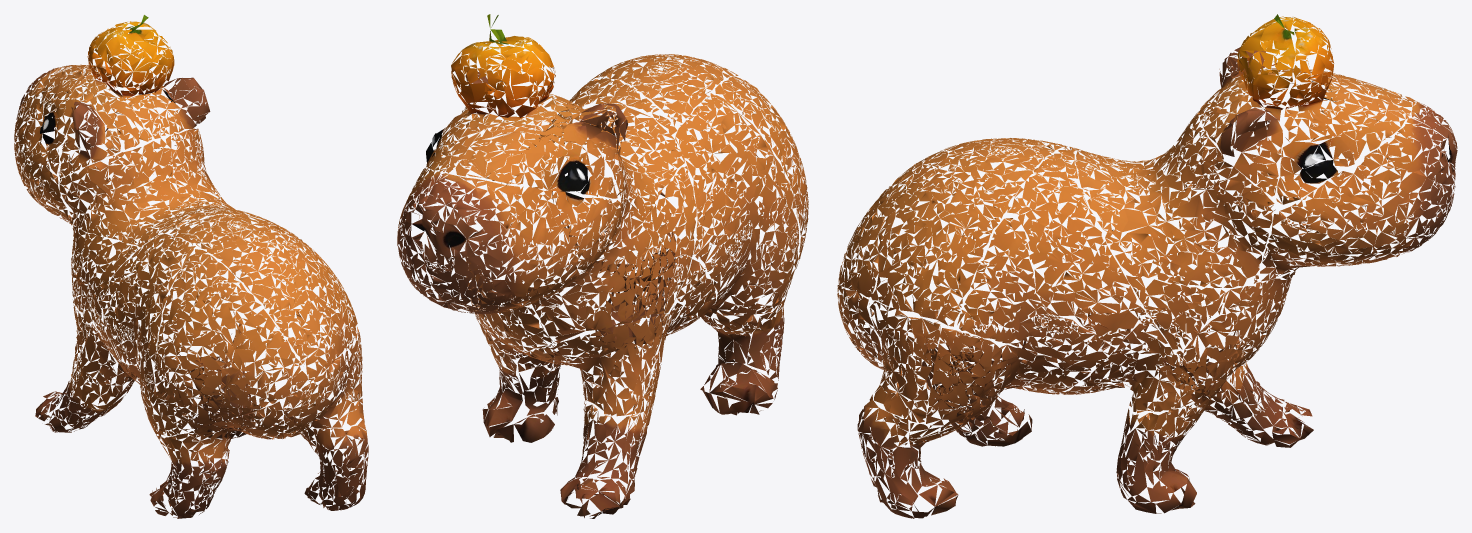
The model's file is capybara_base.glb.
3 views of the same model, side by side, from view 1: azimuth 30°, elevation 25°; view 2: azimuth 150°, elevation 25°; view 3: azimuth 270°, elevation 25° (orthographic). The views are drawn at different scales.
Visible parts, largest first — view 1: tripo_node_6c40523a-c216-4583-8047-84b98420b631; view 2: tripo_node_6c40523a-c216-4583-8047-84b98420b631; view 3: tripo_node_6c40523a-c216-4583-8047-84b98420b631.
Boxes of the visible parts, bbox=[...] form: tripo_node_6c40523a-c216-4583-8047-84b98420b631: bbox=[14, 15, 368, 518]; tripo_node_6c40523a-c216-4583-8047-84b98420b631: bbox=[397, 14, 808, 518]; tripo_node_6c40523a-c216-4583-8047-84b98420b631: bbox=[837, 14, 1457, 518].
Bounding box in the file's own units: 0.4421 × 0.8403 × 1.
Materials: 1 (1 with a texture image).
